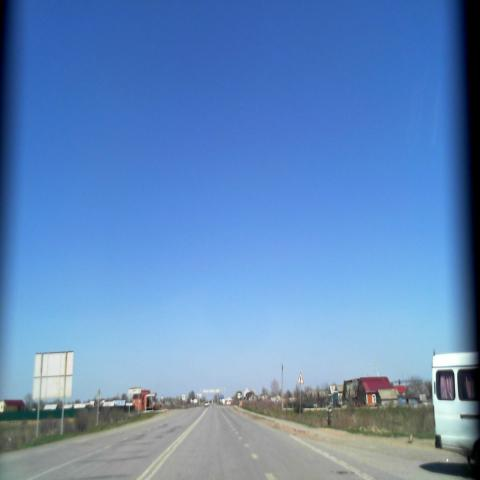2_3_2: (296, 371, 304, 385)
